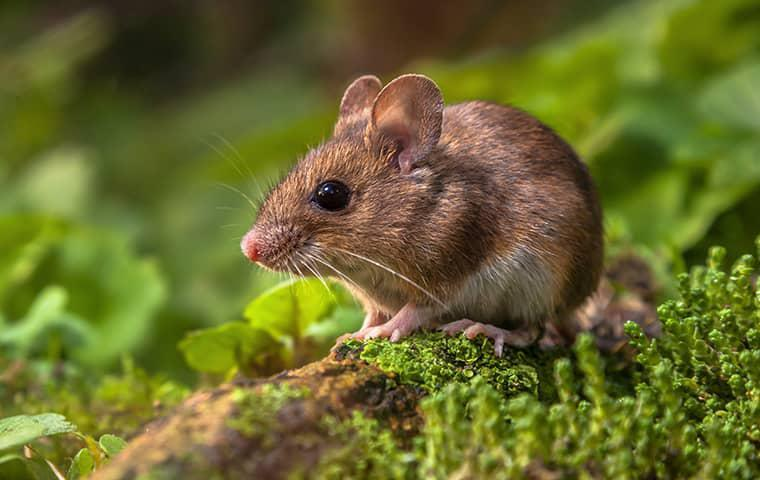rat: (241, 74, 604, 354)
